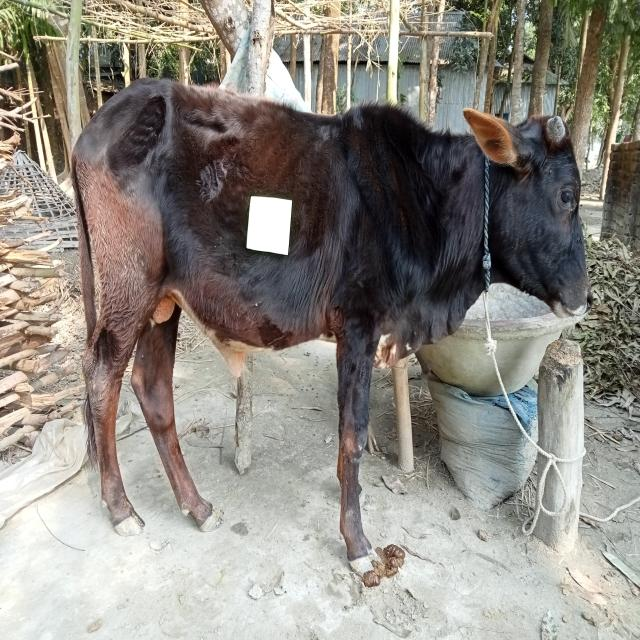badan_sapi: (70, 79, 379, 354)
sapi: (66, 73, 594, 602)
